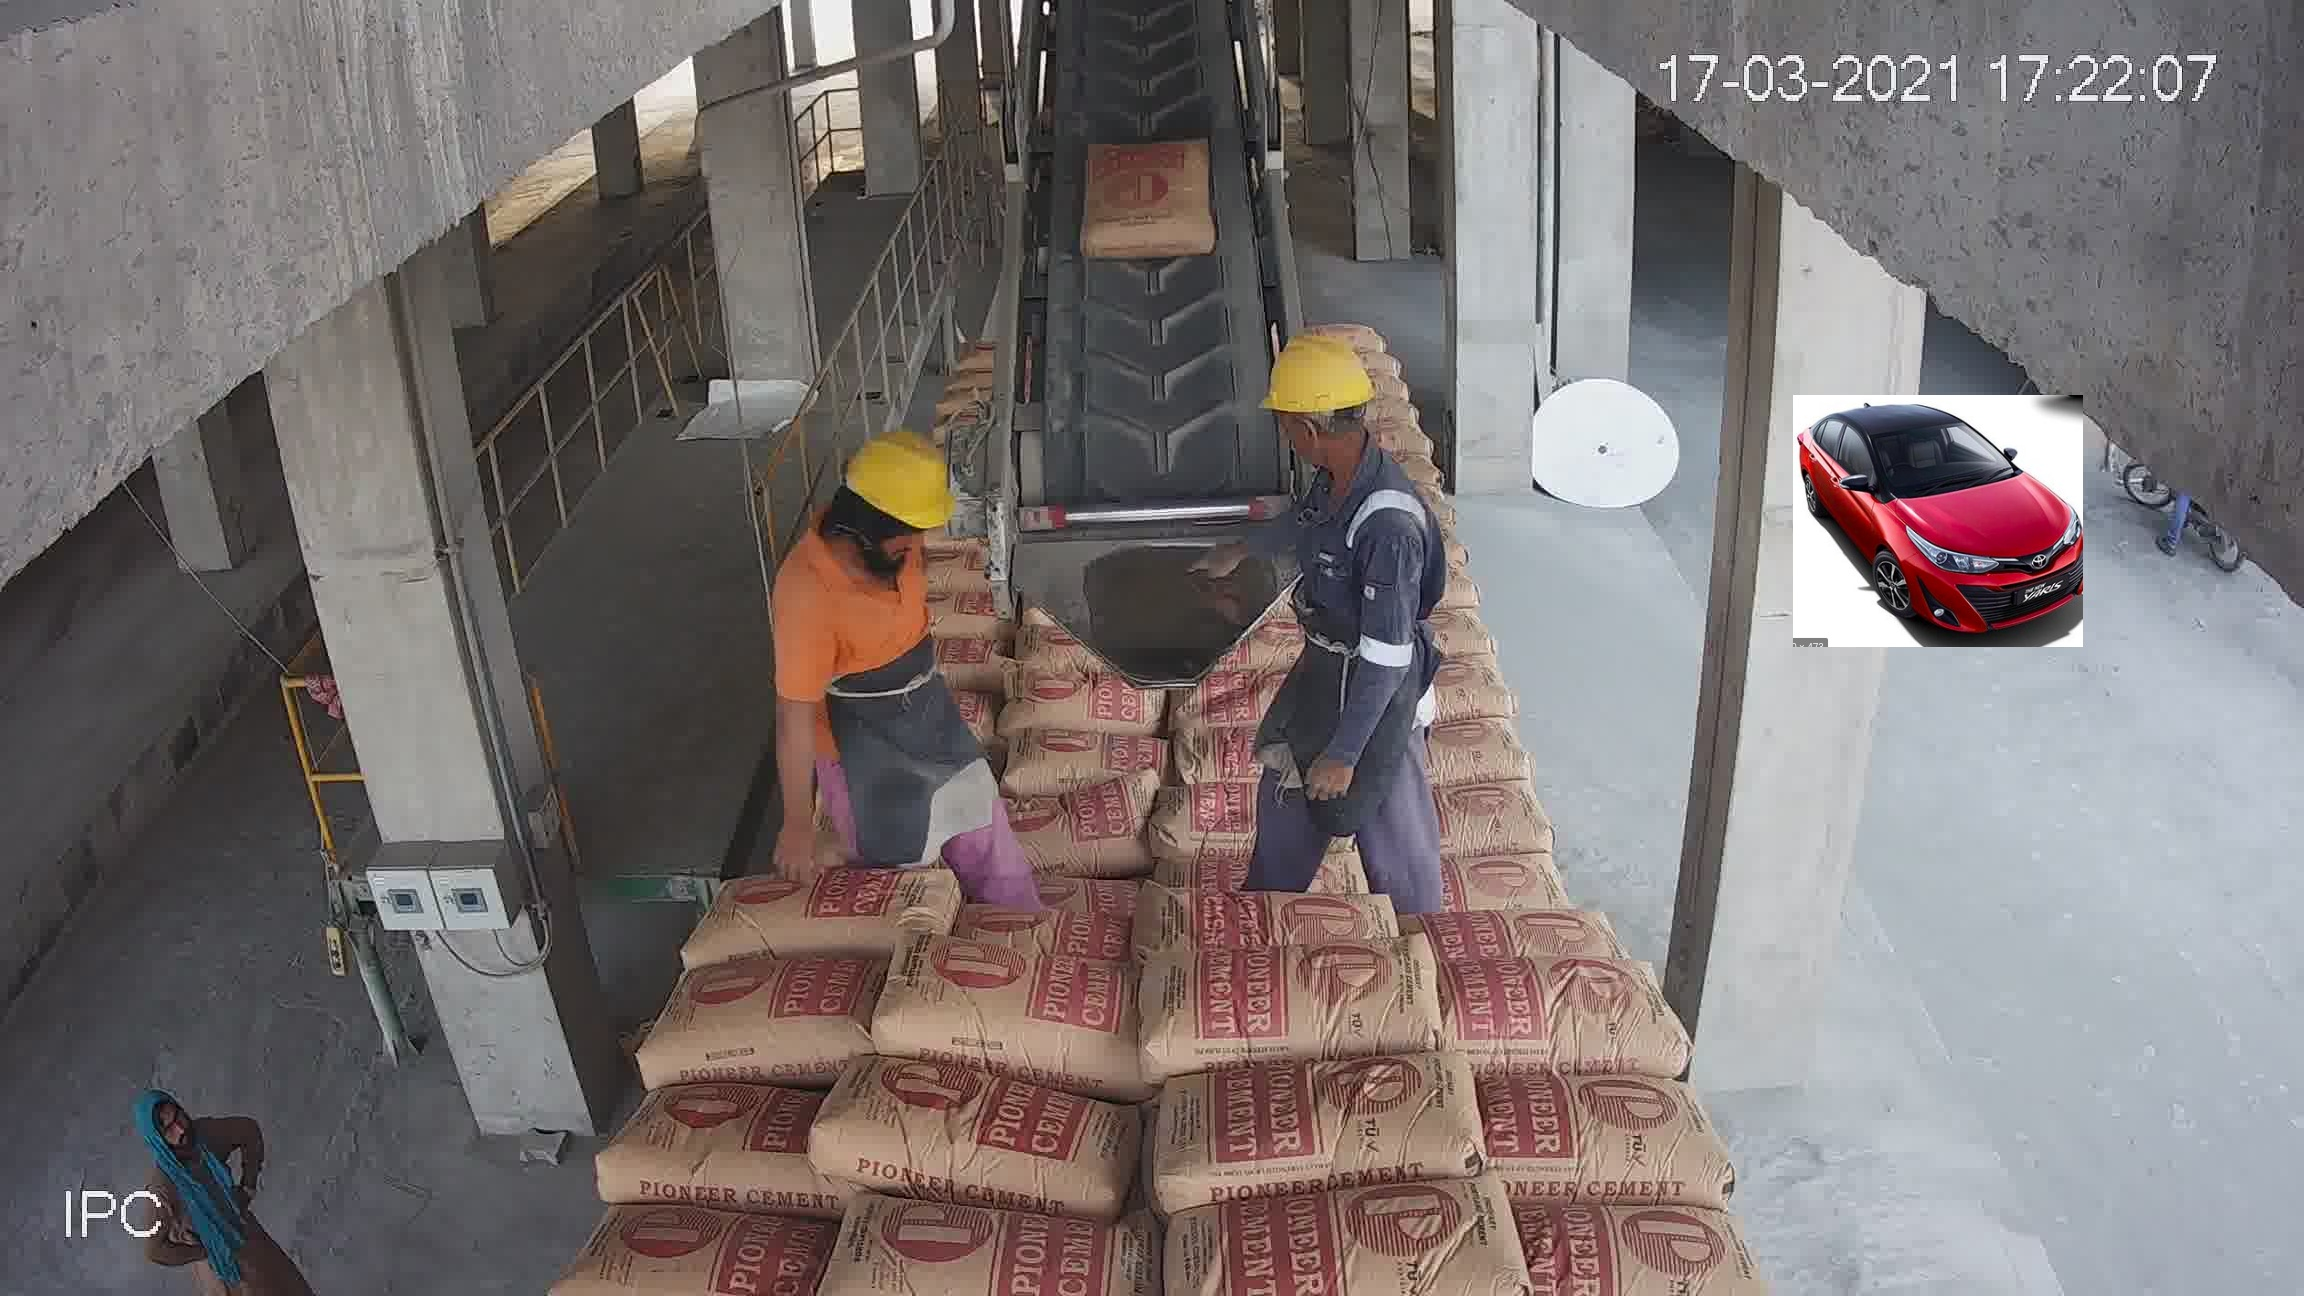bag_h: (1130, 1041, 1495, 1225), (1161, 1163, 1532, 1296), (820, 1071, 1152, 1193), (1139, 940, 1431, 1073), (1431, 1079, 1745, 1193), (1160, 832, 1421, 967), (1119, 722, 1389, 843), (813, 1196, 1158, 1285), (1432, 954, 1701, 1067), (592, 1070, 820, 1195), (886, 953, 1146, 1060), (1467, 1196, 1760, 1290), (1393, 853, 1646, 959), (638, 965, 873, 1078), (877, 850, 1139, 949), (1358, 752, 1590, 859), (752, 696, 991, 790), (557, 1201, 821, 1283), (676, 873, 889, 972), (714, 779, 904, 873), (881, 771, 1150, 837), (1374, 635, 1510, 718), (1033, 684, 1169, 733), (1161, 620, 1252, 687), (1054, 578, 1174, 627), (1017, 635, 1169, 673), (1180, 567, 1268, 611)
belt: (1029, 55, 1294, 453)
